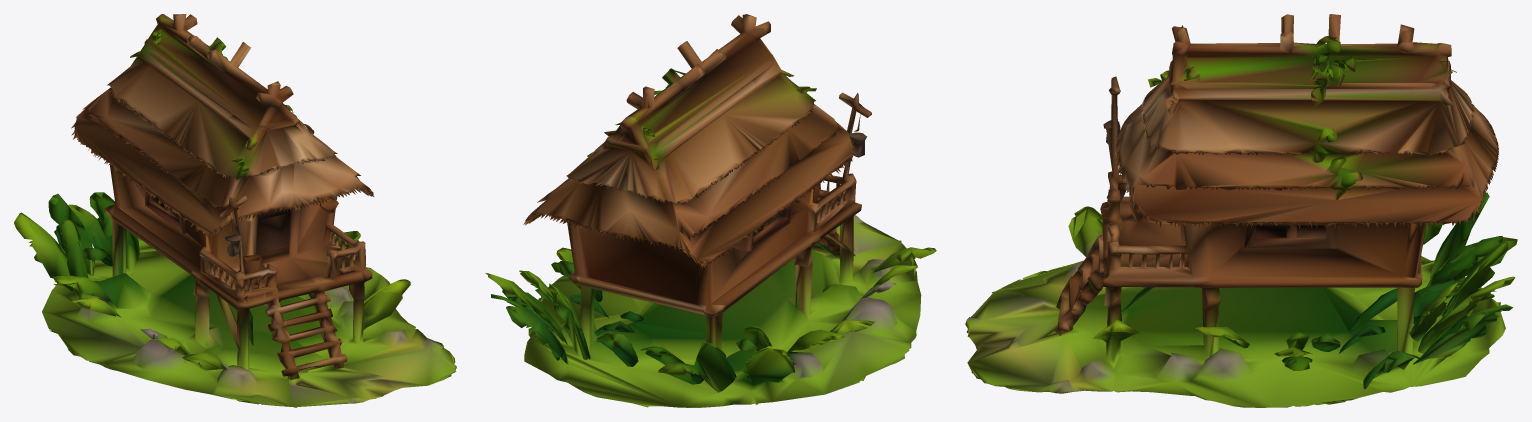
File: wikalino-tropical-hut.glb
3 renders of one model, left to right at view 1: azimuth 30°, elevation 25°; view 2: azimuth 150°, elevation 25°; view 3: azimuth 270°, elevation 25°, orthographic. The views are drawn at different scales.
Parts seen in each view (by area): view 1: node_0; view 2: node_0; view 3: node_0.
Boxes of the visible parts, <box> form: node_0: <box>14,14,456,407</box>; node_0: <box>485,14,936,407</box>; node_0: <box>965,14,1517,407</box>.
Bounding box in the file's own units: 0.7438 × 0.5824 × 0.959.
